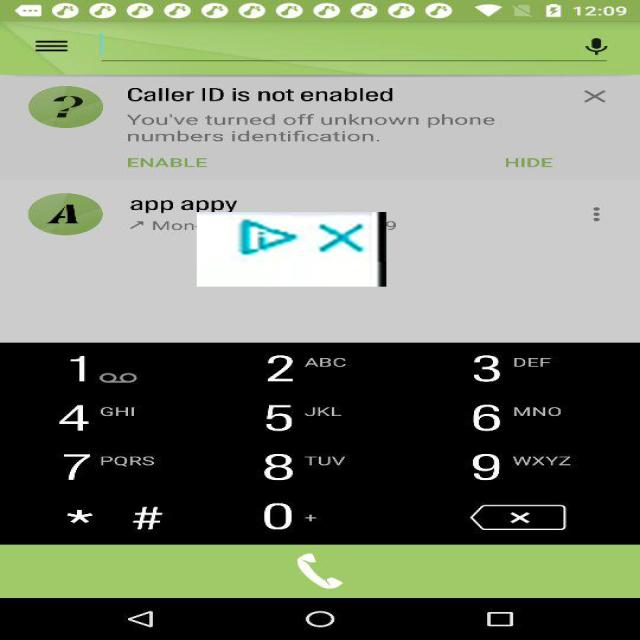sneaking: (197, 212, 386, 287)
